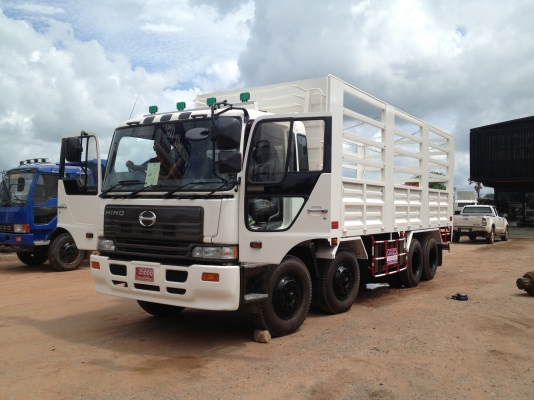truck: (86, 102, 337, 343)
